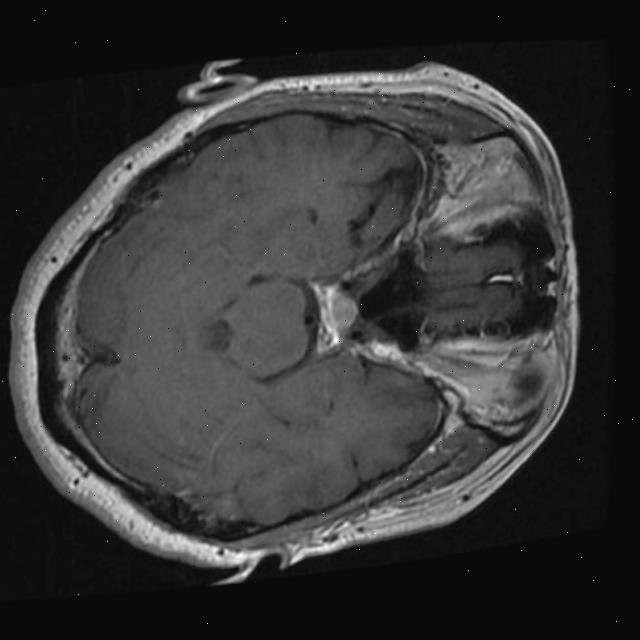Pituitary: (329, 294, 358, 331)
